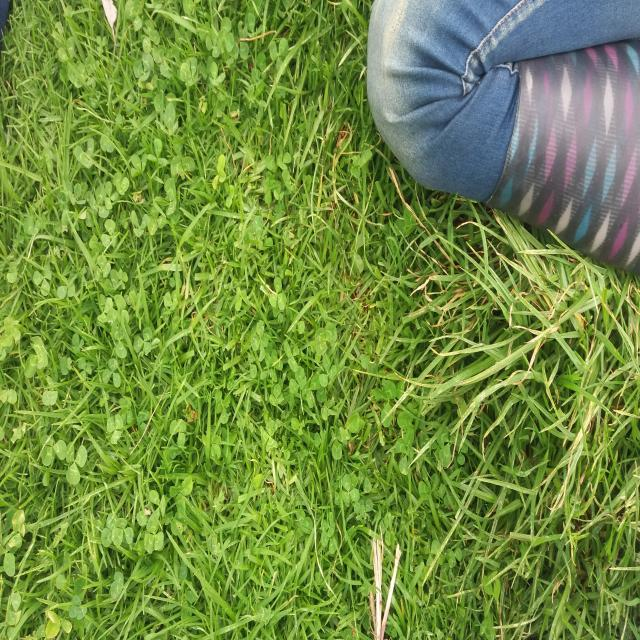Four Leaf Clover: (251, 320, 268, 361), (260, 420, 278, 452), (180, 56, 198, 86)
